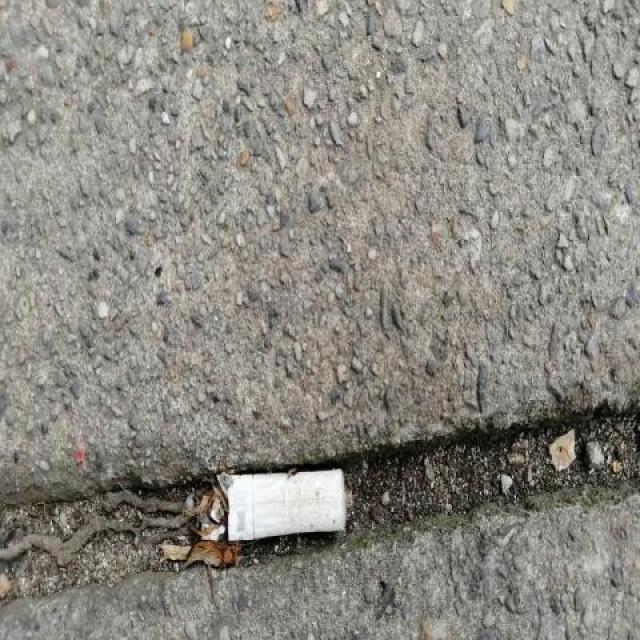non-organic waste: (211, 465, 354, 548)
